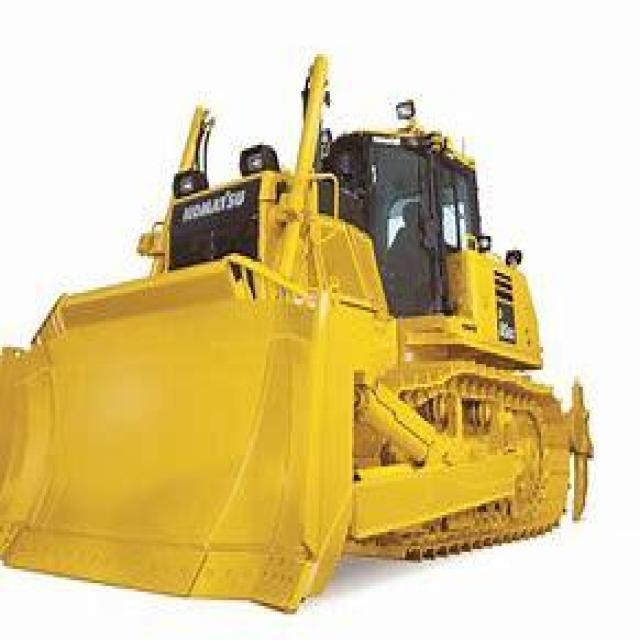buldozerpayloadergrader: (2, 60, 598, 620)
